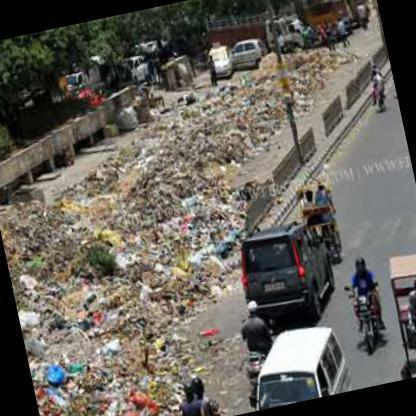Garbage: (94, 178, 218, 326), (132, 143, 235, 282), (39, 337, 165, 415), (50, 214, 124, 290), (164, 122, 219, 177), (70, 166, 119, 216), (141, 132, 188, 182), (208, 111, 250, 163), (46, 206, 102, 244), (126, 374, 182, 410), (124, 204, 165, 249), (38, 378, 87, 415), (221, 84, 261, 129), (90, 243, 127, 286), (179, 244, 219, 282), (185, 180, 219, 216), (105, 389, 152, 415), (38, 345, 72, 379), (198, 316, 232, 349), (230, 82, 262, 117), (188, 103, 213, 137), (178, 154, 199, 180)
